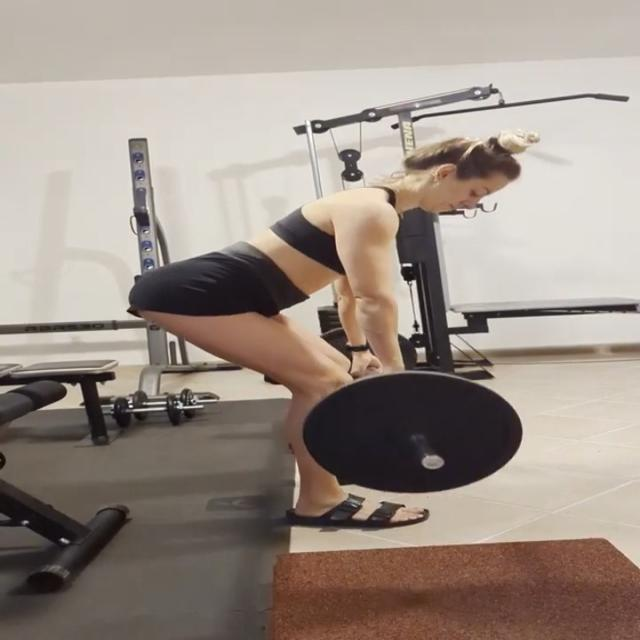barbell: (299, 368, 525, 498)
